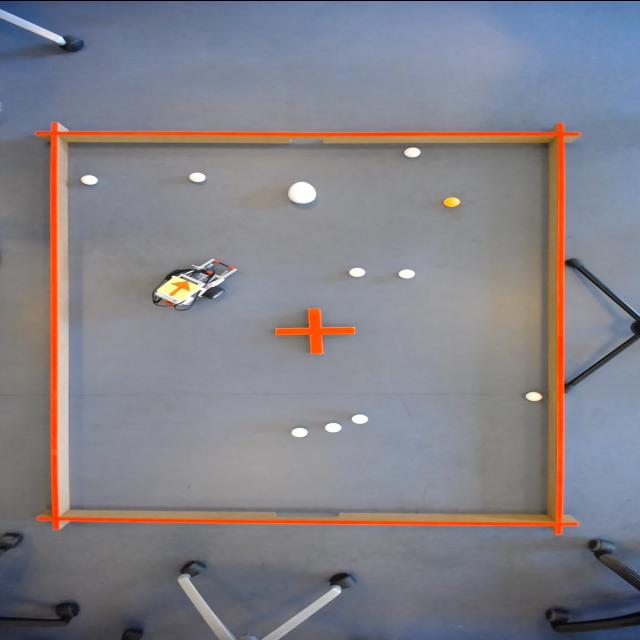cross: (273, 306, 358, 355)
egg: (286, 180, 322, 206)
orange_ball: (439, 195, 463, 207)
robot: (154, 273, 203, 301)
white_ball: (522, 389, 546, 403), (286, 424, 310, 438), (346, 264, 370, 278), (396, 268, 422, 280), (76, 173, 100, 186), (401, 146, 426, 158), (349, 412, 372, 424), (321, 422, 346, 433), (186, 170, 208, 182)
